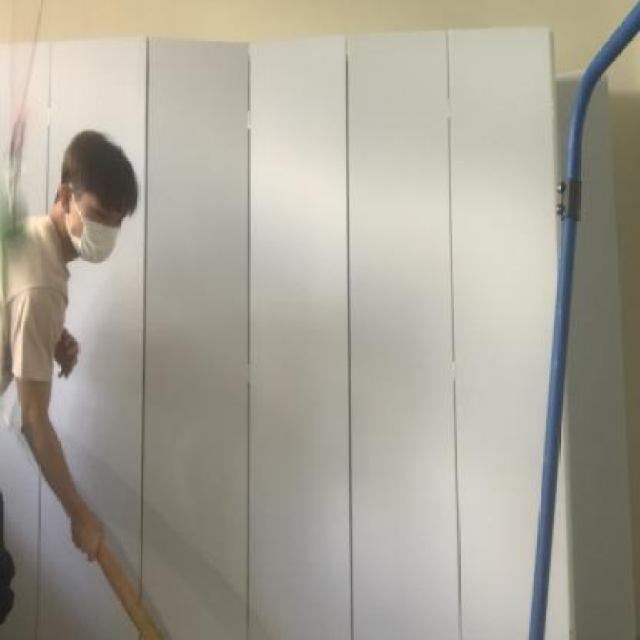baseball: (0, 178, 45, 264)
